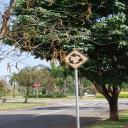Rotatoria: (61, 49, 89, 69)
